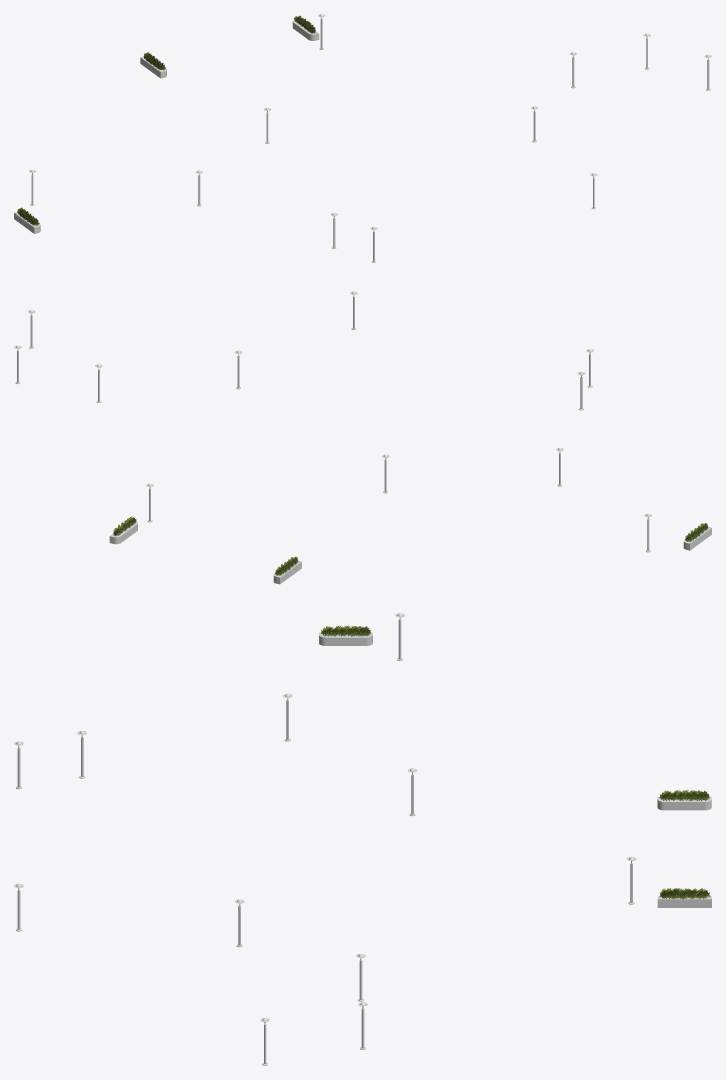
Rendered from cau01_acc.fbx.
3 renders of one model, top to bottom at view 1: azimuth 30°, elevation 25°; view 2: azimuth 150°, elevation 25°; view 3: azimuth 270°, elevation 25°, orthographic. The views are drawn at different scales.
Size of the model in its own units: 215402 by 10980 by 149430.
1 material, 1 textured.
